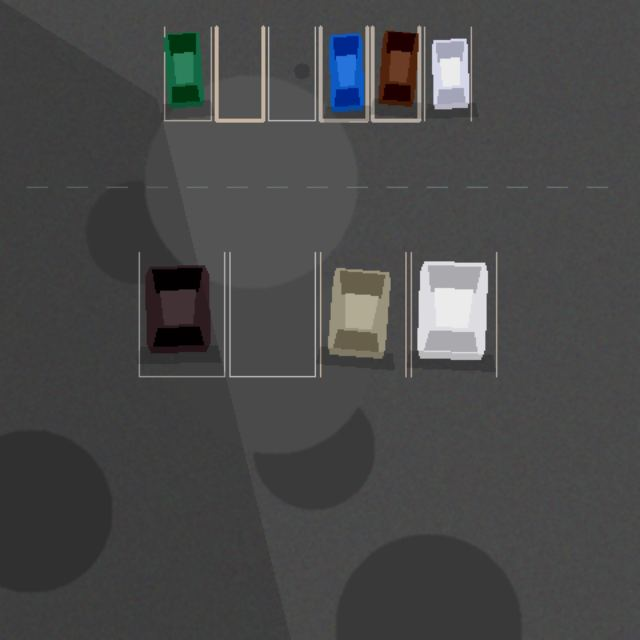space-empty: (229, 252, 315, 376), (216, 27, 263, 120), (268, 27, 315, 120)
space-occupied: (139, 252, 224, 376), (320, 252, 405, 376), (411, 252, 496, 376), (164, 27, 211, 120), (320, 27, 367, 120), (372, 27, 419, 120), (424, 27, 471, 120)
